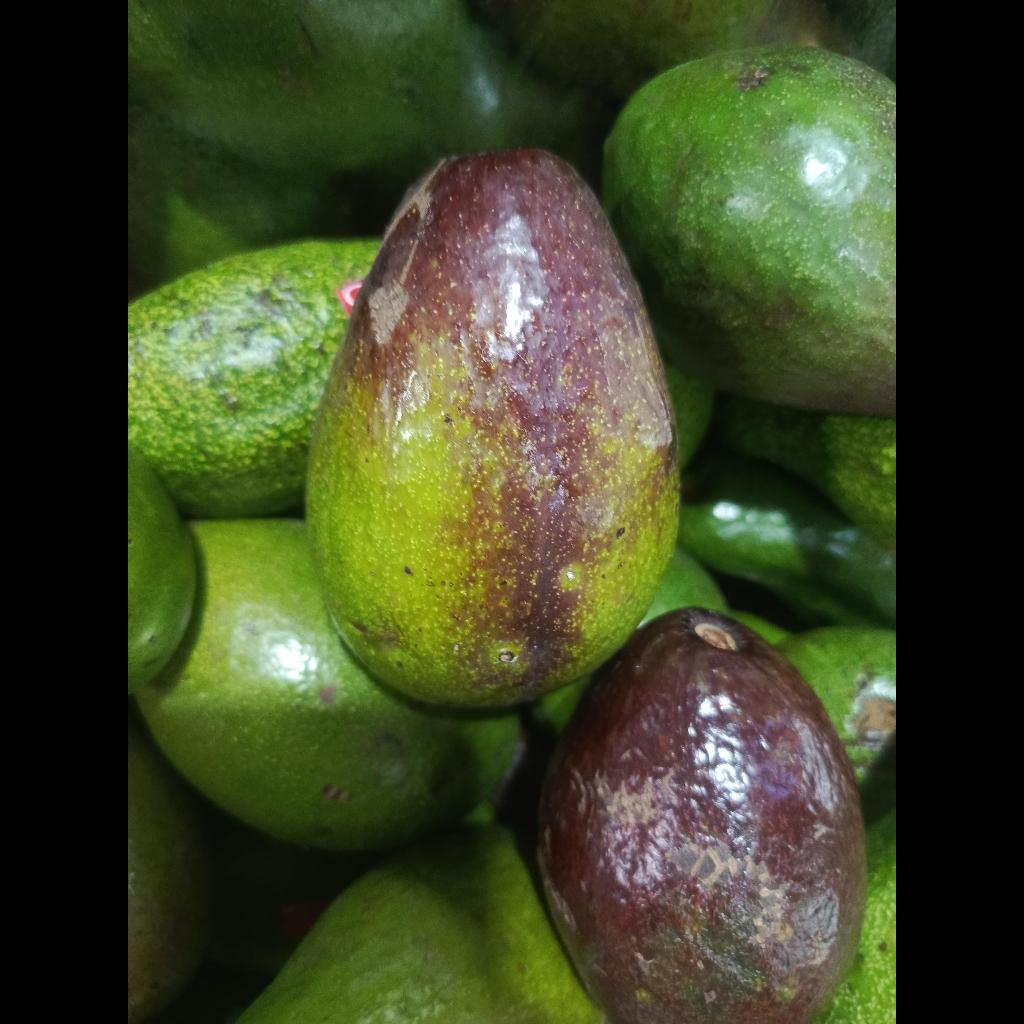anthracnose: (538, 607, 866, 1024), (128, 239, 379, 518)
healthy: (137, 519, 518, 850), (237, 824, 604, 1024)
scab: (307, 150, 678, 705), (602, 46, 896, 416)
